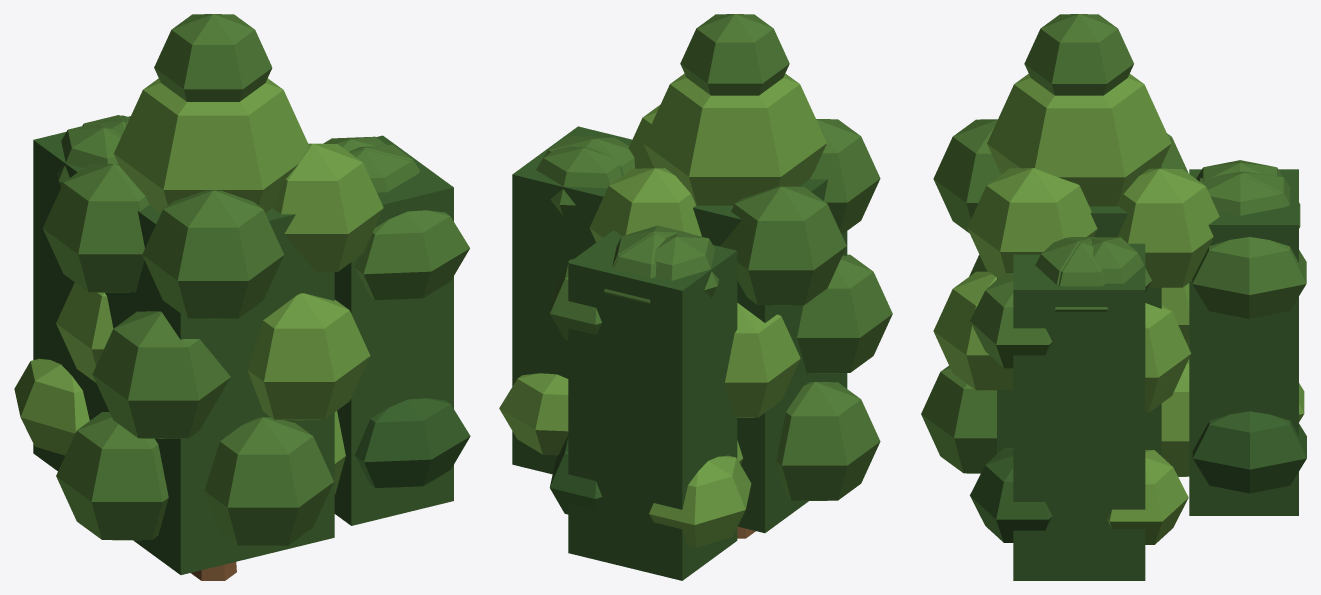
The model's file is hedge_corner.glb.
The picture shows the model from 3 angles, left to right: view 1: azimuth 30°, elevation 25°; view 2: azimuth 150°, elevation 25°; view 3: azimuth 270°, elevation 25°; orthographic projection. The views are drawn at different scales.
Visible parts, largest first — view 1: wall_hedge_corner; view 2: wall_hedge_corner; view 3: wall_hedge_corner.
Part boxes in pixels (bbox=[...]): wall_hedge_corner: bbox=[14, 14, 470, 580]; wall_hedge_corner: bbox=[499, 14, 892, 580]; wall_hedge_corner: bbox=[921, 14, 1306, 580].
Size of the model in its own units: 1.72 by 2.6 by 1.76.
